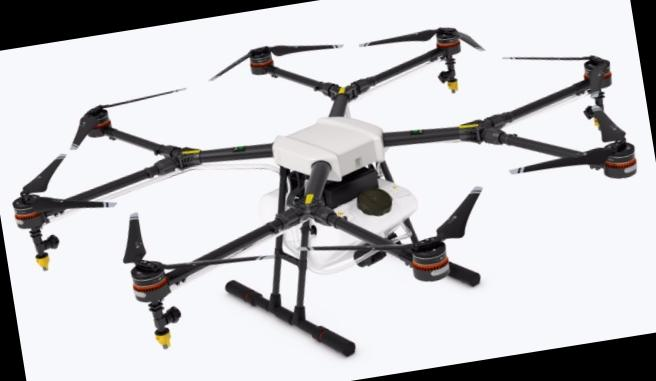drone: (10, 0, 656, 381)
